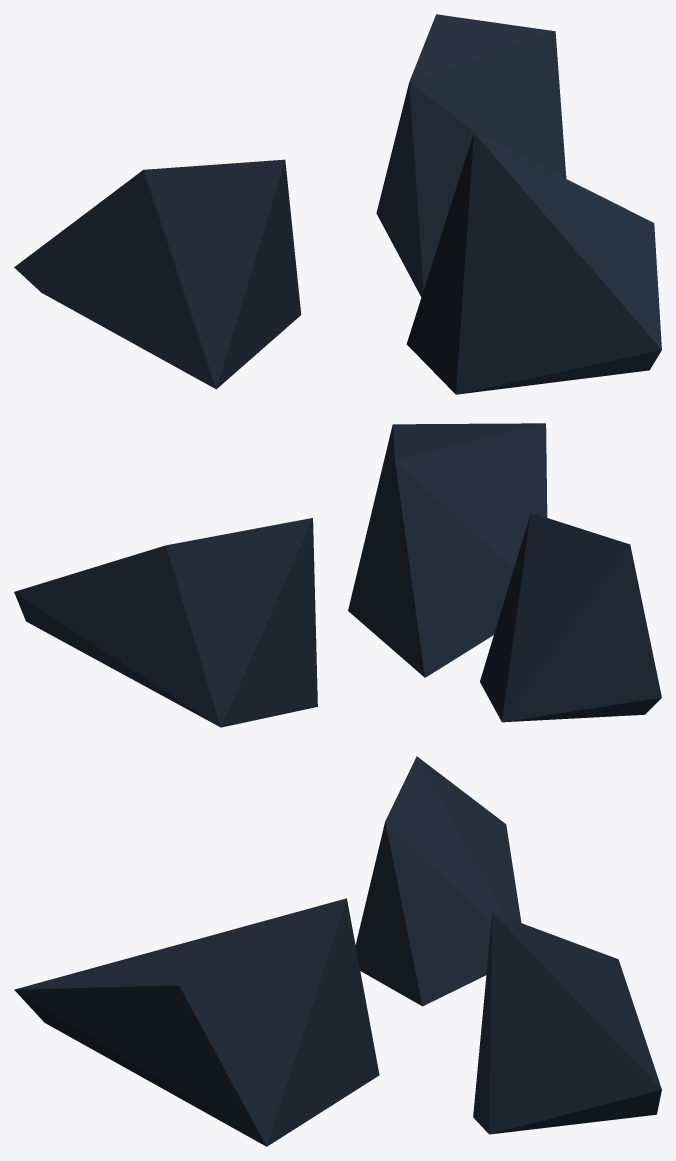
File: mancha_2.glb
The picture shows the model from 3 angles, top to bottom: view 1: azimuth 30°, elevation 25°; view 2: azimuth 150°, elevation 25°; view 3: azimuth 270°, elevation 25°; orthographic projection. The views are drawn at different scales.
Parts seen in each view (by area): view 1: mancha_2; view 2: mancha_2; view 3: mancha_2.
Part boxes in pixels (x1,y1,x2,y2): mancha_2: (14,14,661,394); mancha_2: (14,423,661,727); mancha_2: (14,756,661,1146).
Size of the model in its own units: 0.3234 by 0.1144 by 0.3081.
